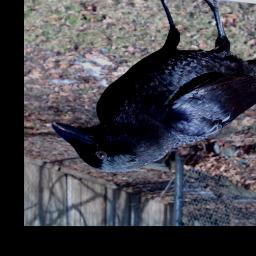Crow: (51, 0, 256, 172)
